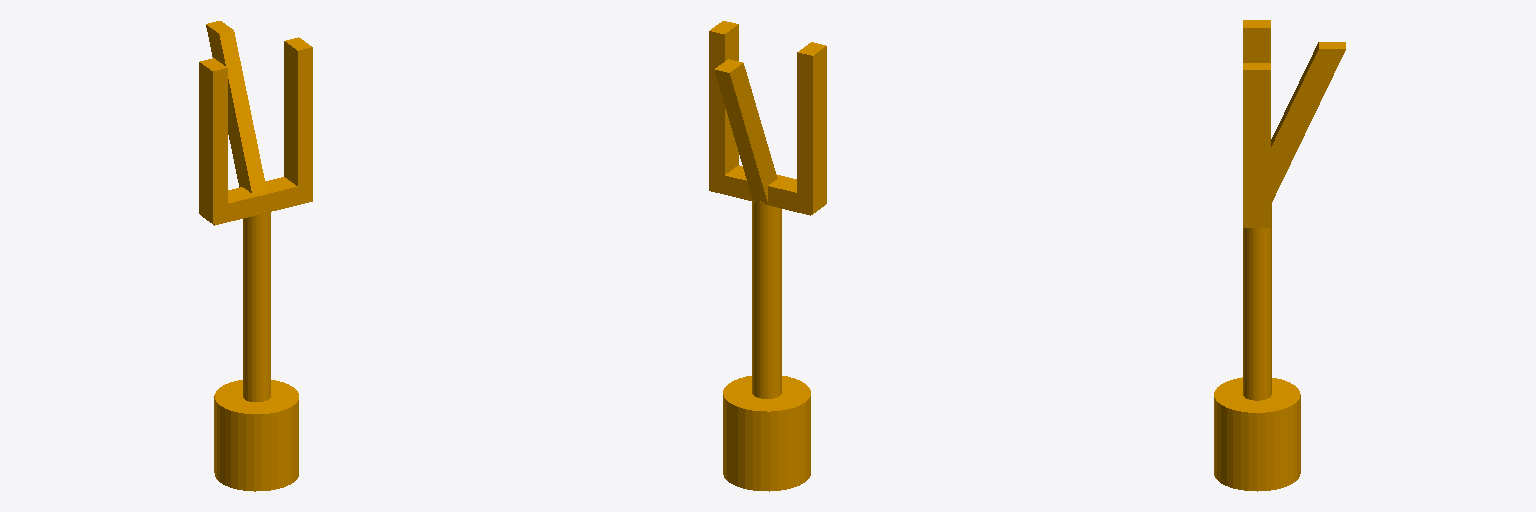
URDF robot description (simple_object):
<robot name="simple_object">
  <link name="my_object">
    <inertial>
      <origin xyz="0 0 0" />
      <mass value="1.0" />
      <inertia  ixx="0.00016" ixy="0.0"  ixz="0.0"  iyy="0.00016"  iyz="0.0"  izz="0.00016" />
    </inertial>
    <visual>
      <origin xyz="0 0 0"/>
      <geometry>
        <mesh filename="package://affordance_experiment/models/fork.dae" />
      </geometry>
    </visual>
    <collision>
      <origin xyz="0 0 0"/>
      <geometry>
        <mesh filename="package://affordance_experiment/models/fork.dae" />
      </geometry>
    </collision>
  </link>
  <gazebo reference="my_object">
    <material>Gazebo/Blue</material>
  </gazebo>
</robot>

--- Facts derived from the render (not from the file) ---
3 views of the same robot in one strip: view 1: azimuth 30°, elevation 25°; view 2: azimuth 150°, elevation 25°; view 3: azimuth 270°, elevation 25° (orthographic).
Model simple_object with 1 links and 0 joints (none), rooted at my_object, posed every joint at zero.
Links seen in each view (by area): view 1: my_object; view 2: my_object; view 3: my_object.
Boxes of the visible links, x1,y1,x2,y2 form: my_object: (199,21,312,491); my_object: (709,21,826,491); my_object: (1214,20,1345,491).
Bounding box of the posed robot: 0.0407 × 0.0458 × 0.1631 m (x, y, z).
Meshes: 1 distinct files referenced, 1 mesh visuals loaded (1 Collada DAE).